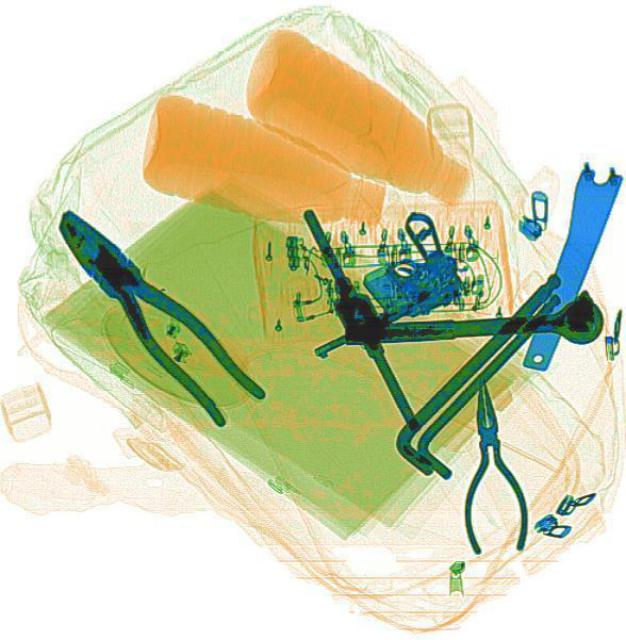Gun: (269, 204, 473, 366)
Pliers: (34, 193, 267, 431), (451, 378, 528, 554)
